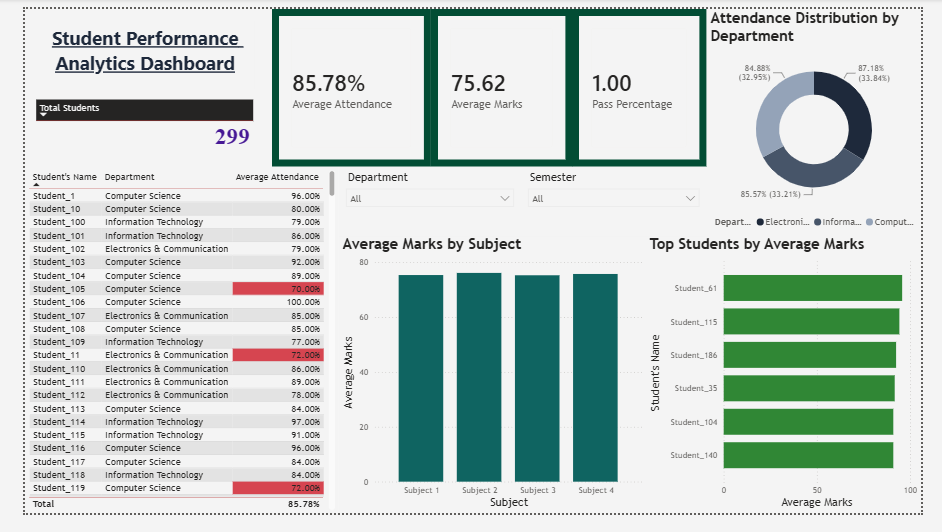

The dashboard page shown, as its layout file describes it:
{"tool":"powerbi","page":{"name":"Overall","canvas":[1280,720],"ordinal":3},"visuals":[{"type":"tableEx","title":"ghccg","fields":{"Values":["_AllMeasures.Total Students"]},"box":[0,113.8,353.8,110],"z":0},{"type":"cardVisual","fields":{"Data":["_AllMeasures.Average Attendance"]},"box":[353.3,0,226.7,225],"z":1000},{"type":"cardVisual","fields":{"Data":["_AllMeasures.Average Marks"]},"box":[580,0,201.7,225],"z":2000},{"type":"cardVisual","fields":{"Data":["_AllMeasures.Pass Percentage"]},"box":[781.7,0,191.7,225],"z":3000},{"type":"donutChart","title":"Attendance Distribution by Department","fields":{"Category":["dim_student.Department"],"Y":["_AllMeasures.Average Attendance"]},"box":[974.5,0,305.5,323.4],"z":4000},{"type":"clusteredColumnChart","fields":{"Y":["_AllMeasures.Average Marks"],"Category":["fact_marks.Subject"]},"box":[448.7,323.4,439.1,396.4],"z":5000},{"type":"clusteredBarChart","title":"Top Students by Average Marks","fields":{"Category":["dim_student.Student's Name"],"Y":["_AllMeasures.Average Marks"]},"box":[887.7,323.4,392.3,396.4],"z":6000},{"type":"tableEx","fields":{"Values":["dim_student.Student's Name","dim_student.Department","_AllMeasures.Average Attendance"]},"box":[0,225,448.3,495],"z":7000},{"type":"slicer","fields":{"Values":["dim_student.Department"]},"box":[448,225,260,99],"z":8000},{"type":"slicer","fields":{"Values":["dim_student.Semester"]},"box":[709,225,265,99],"z":9000},{"type":"textbox","box":[15,16.7,311.7,96.7],"z":10000}]}

Visuals, with their boxes in screenshot pixels (x1, y1, x2, y2), scaled from the page's 1280x720 canvas onto the 942x532 screenshot:
"ghccg" tableEx: box(0, 84, 260, 165)
cardVisual - _AllMeasures.Average Attendance: box(260, 0, 427, 166)
cardVisual - _AllMeasures.Average Marks: box(427, 0, 575, 166)
cardVisual - _AllMeasures.Pass Percentage: box(575, 0, 716, 166)
"Attendance Distribution by Department" donutChart: box(717, 0, 941, 239)
clusteredColumnChart - _AllMeasures.Average Marks x fact_marks.Subject: box(330, 239, 653, 531)
"Top Students by Average Marks" clusteredBarChart: box(653, 239, 941, 531)
tableEx - dim_student.Student's Name x dim_student.Department: box(0, 166, 330, 531)
slicer - dim_student.Department: box(330, 166, 521, 239)
slicer - dim_student.Semester: box(522, 166, 717, 239)
textbox: box(11, 12, 240, 84)
